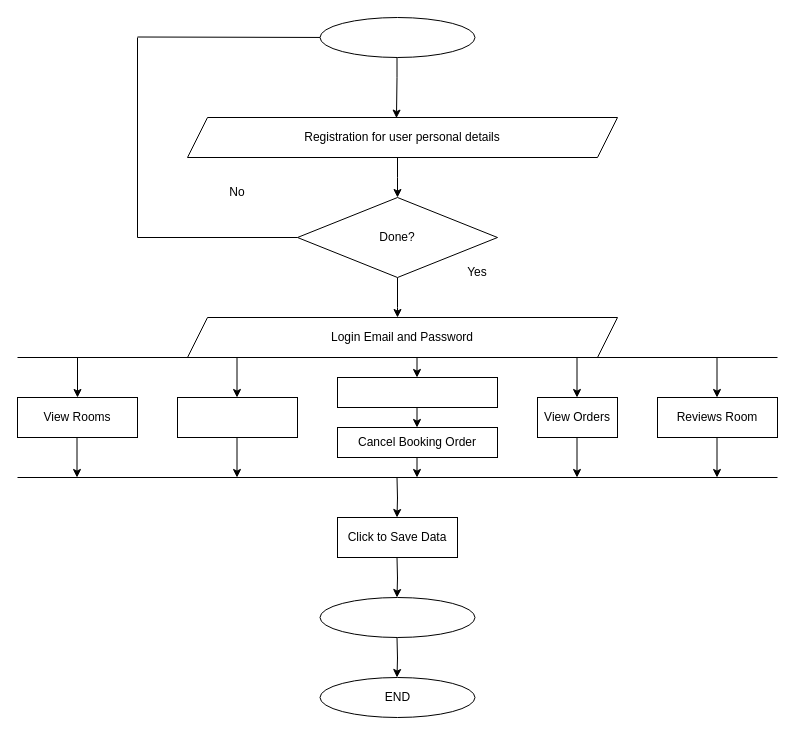
Some shapes in this 796 by 735 pixel diagram are drawn without their labels. Here are the shapes that lost their labels. From the top down, the centre of each, then its label:
the point at 397,37: START
the point at 417,392: Placed an Booking Order
the point at 237,417: Search Rooms
the point at 397,617: Logout
